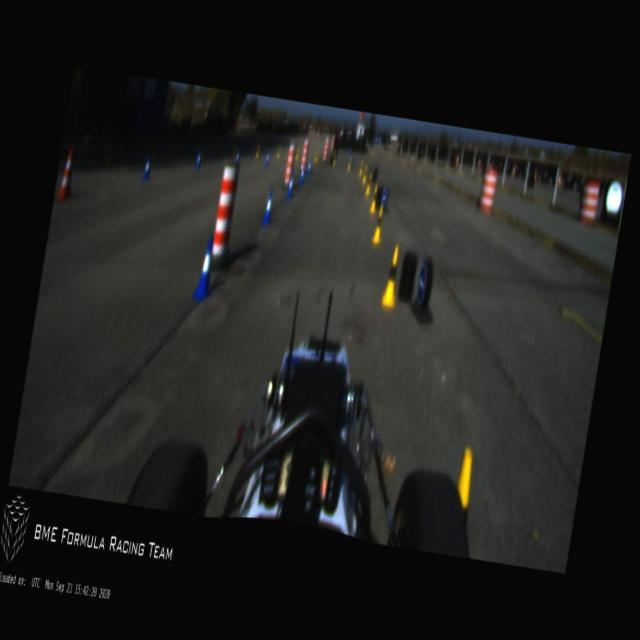blue_cone: (192, 234, 220, 304), (262, 187, 276, 228), (141, 156, 153, 180), (286, 173, 295, 200), (298, 166, 306, 186), (195, 150, 202, 170), (306, 160, 312, 177), (264, 150, 270, 166), (235, 150, 240, 162)
large_orange_cone: (57, 147, 79, 203)
yellow_cone: (451, 446, 478, 528), (382, 246, 402, 308), (372, 204, 386, 243), (369, 184, 379, 214), (366, 173, 372, 196), (362, 166, 368, 185), (358, 159, 364, 176), (232, 142, 238, 158), (294, 148, 300, 162), (332, 152, 337, 168), (347, 156, 352, 171), (276, 146, 280, 160), (256, 144, 260, 158), (314, 150, 318, 162)
